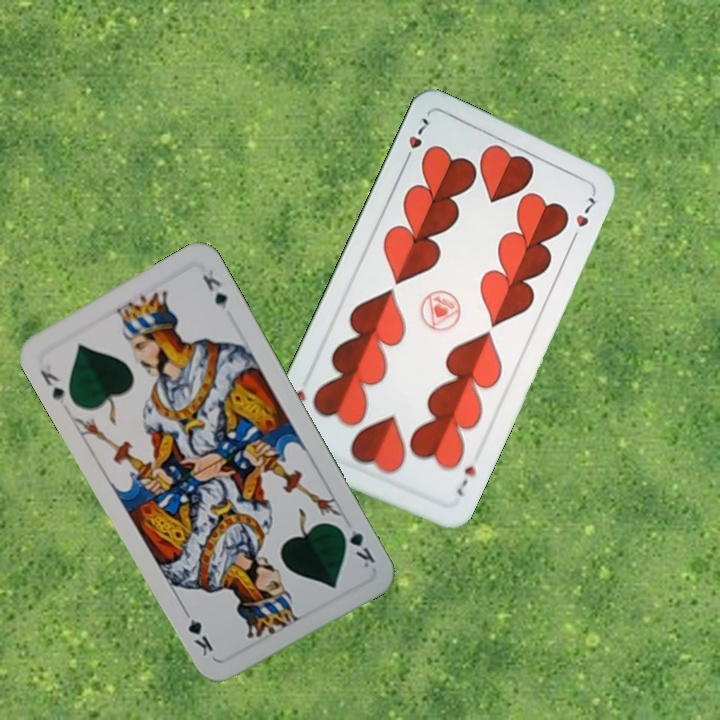GK: (334, 521, 378, 571), (36, 365, 67, 407)
H7: (400, 113, 432, 167), (451, 461, 479, 499)
